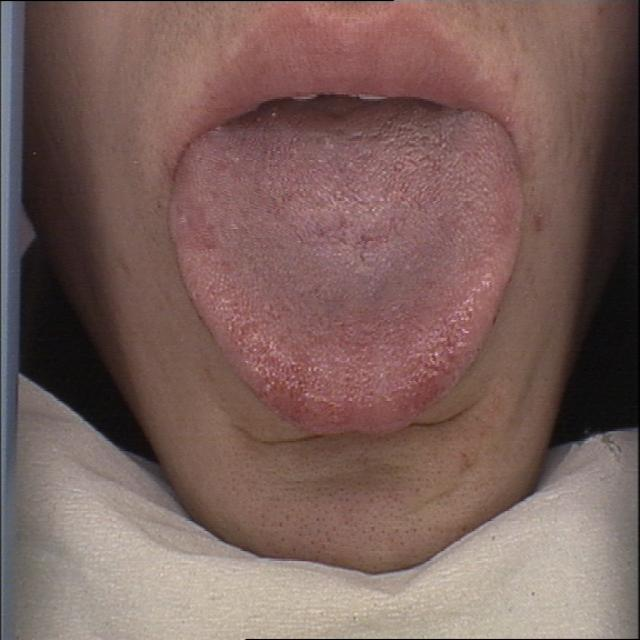tongue: (166, 107, 533, 445)
